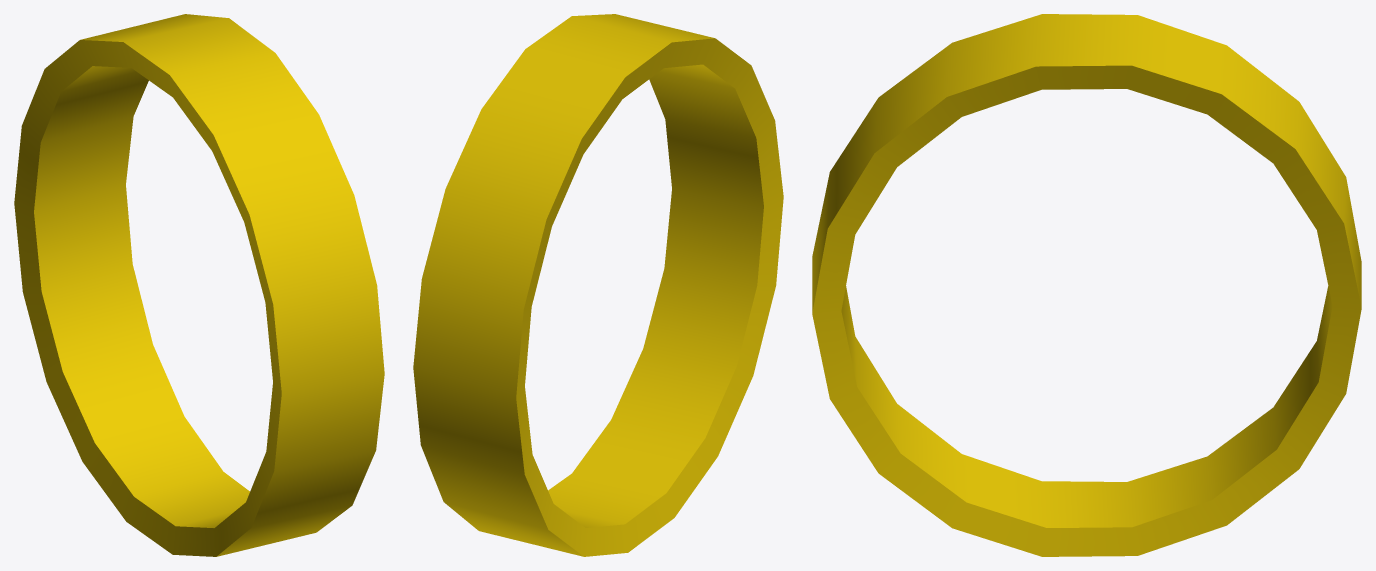
The model's file is CirculoArruma.fbx.
3 renders of one model, left to right at view 1: azimuth 30°, elevation 25°; view 2: azimuth 150°, elevation 25°; view 3: azimuth 270°, elevation 25°, orthographic. The views are drawn at different scales.
Parts seen in each view (by area): view 1: Circulo; view 2: Circulo; view 3: Circulo.
Part boxes in pixels (bbox=[...]): Circulo: bbox=[14, 14, 384, 556]; Circulo: bbox=[413, 14, 783, 556]; Circulo: bbox=[812, 14, 1361, 556].
Bounding box in the file's own units: 18.97 × 84.29 × 85.42.
